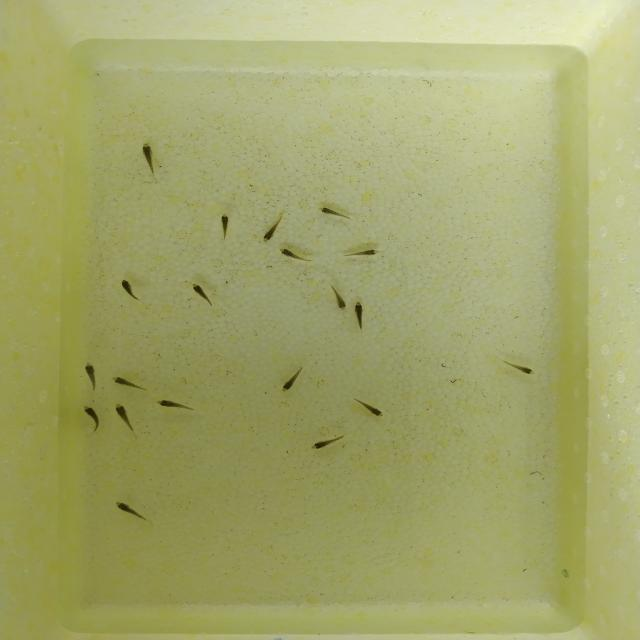fingerling: (186, 280, 217, 310), (498, 357, 544, 377), (134, 144, 164, 172), (314, 200, 348, 223), (80, 360, 106, 389), (356, 401, 396, 419), (112, 500, 146, 520), (261, 218, 284, 246), (277, 242, 305, 264), (118, 276, 140, 304), (151, 398, 194, 412), (277, 371, 302, 395), (304, 438, 345, 452), (114, 400, 132, 429), (343, 248, 385, 260), (82, 405, 101, 430), (353, 298, 366, 332), (217, 212, 234, 235), (332, 291, 349, 314), (112, 377, 140, 390)
